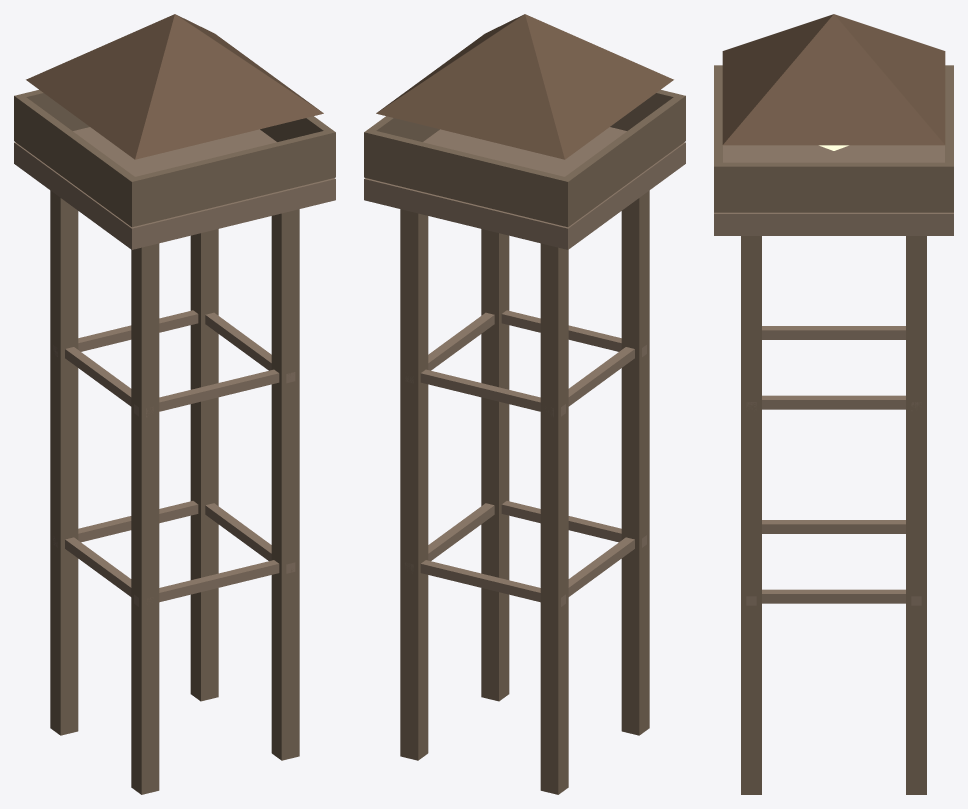
The model's file is watchtower.glb.
3 views of the same model, side by side, from view 1: azimuth 30°, elevation 25°; view 2: azimuth 150°, elevation 25°; view 3: azimuth 270°, elevation 25° (orthographic).
Visible parts, largest first — view 1: watchtower; view 2: watchtower; view 3: watchtower.
Part boxes in pixels (x1,y1,x2,y2): watchtower: [14, 14, 335, 794]; watchtower: [364, 14, 685, 794]; watchtower: [714, 14, 953, 794].
Size of the model in its own units: 1.6 by 5.46 by 1.6.
